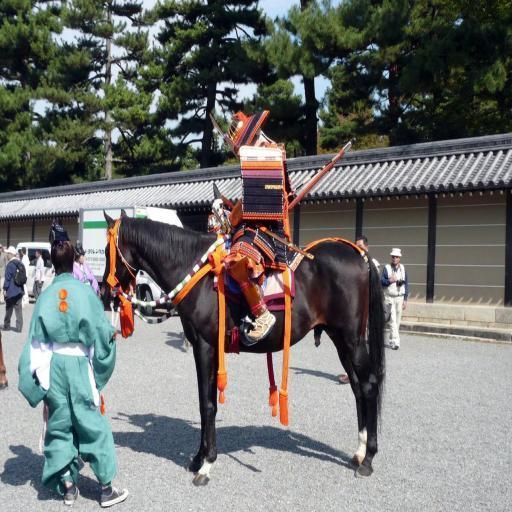horse: (100, 206, 388, 492)
